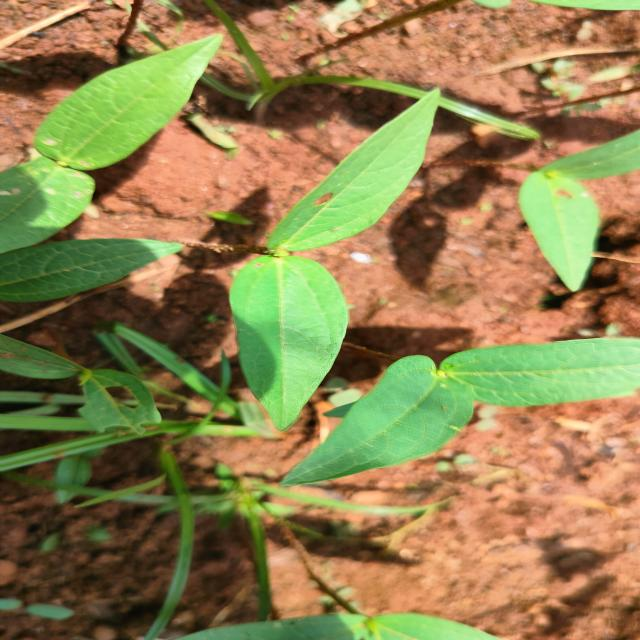Black gram_healthy: (261, 83, 443, 251), (34, 32, 224, 170), (304, 348, 476, 492), (235, 245, 352, 429), (439, 336, 640, 409)
